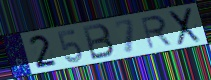2: (28, 34, 60, 70)
5: (56, 27, 84, 64)
7: (113, 17, 136, 56)
B: (81, 22, 117, 62)
R: (139, 14, 174, 51)
X: (168, 6, 203, 48)
